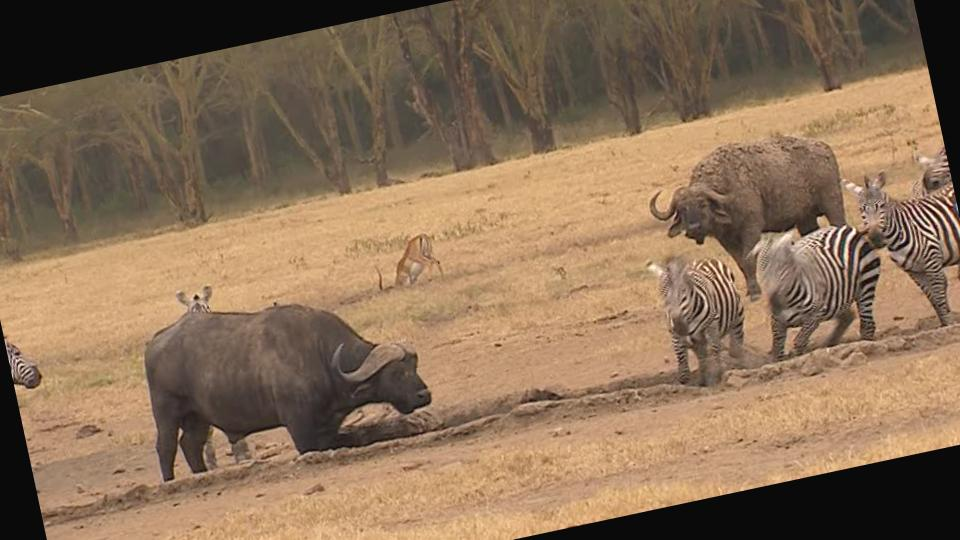Buffalo: (135, 298, 466, 508), (627, 144, 776, 266)
